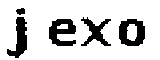e: (49, 19, 78, 49)
j: (2, 7, 30, 60)
o: (118, 18, 146, 48)
x: (79, 17, 112, 49)
